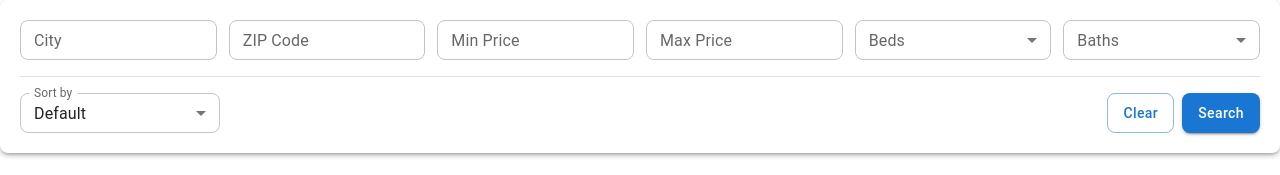
clear filters
Type "Irvine" into the field labelled "City" at (118, 40), box [20,20,217,60]
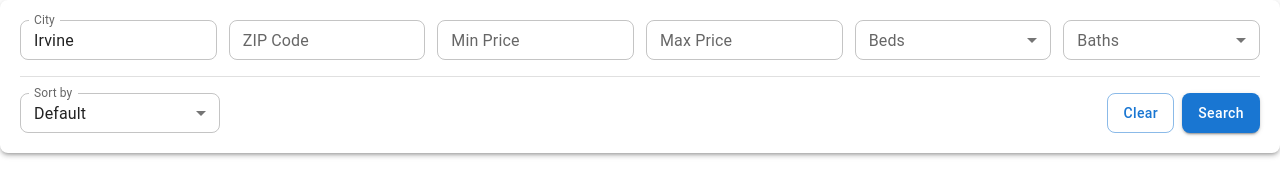
Click the button "Clear" at (1141, 113), box [1107,93,1174,133]
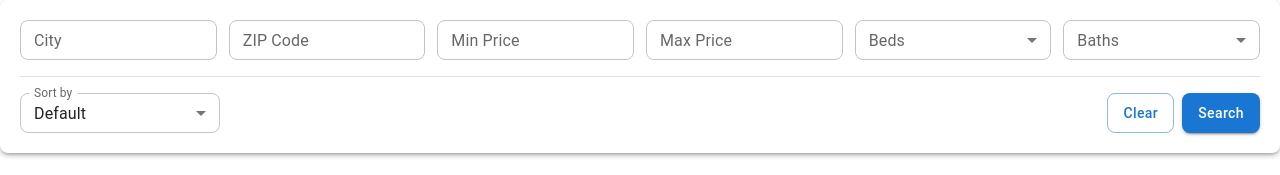
Expected: the field labelled "City" is empty, [20,20,217,60]
